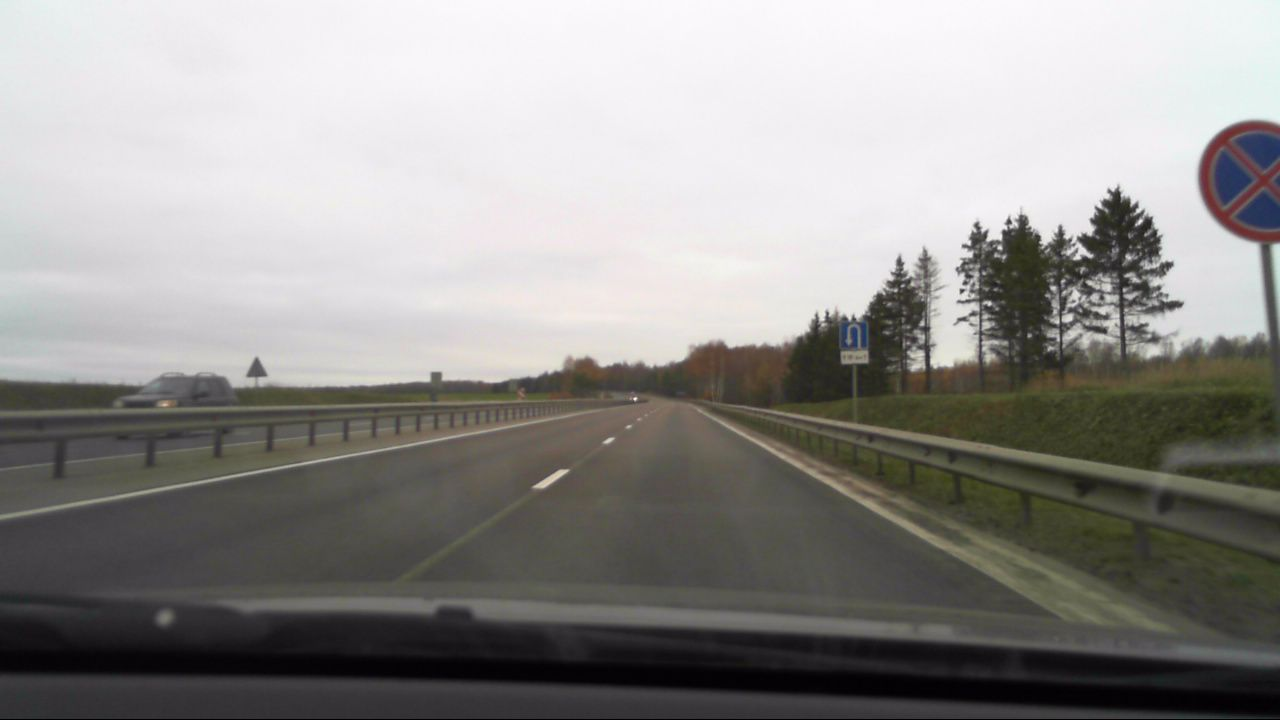U-turn: (841, 322, 867, 349)
